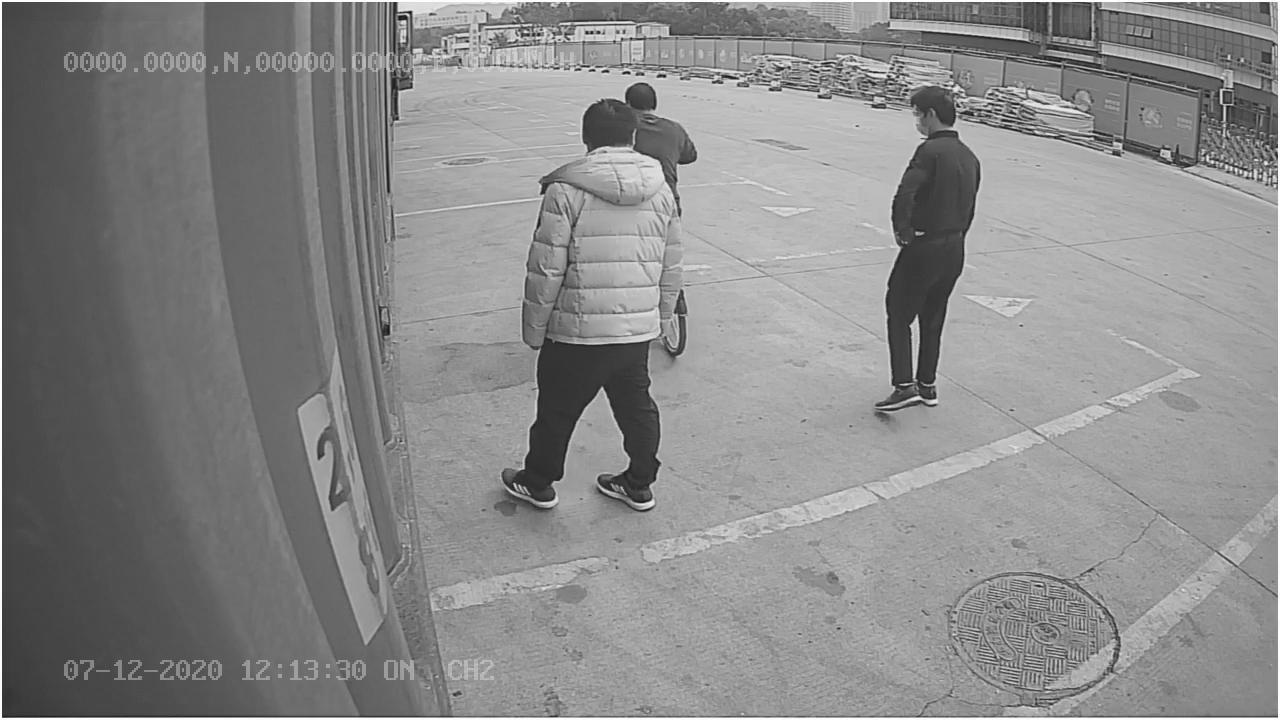person: (871, 79, 985, 420)
